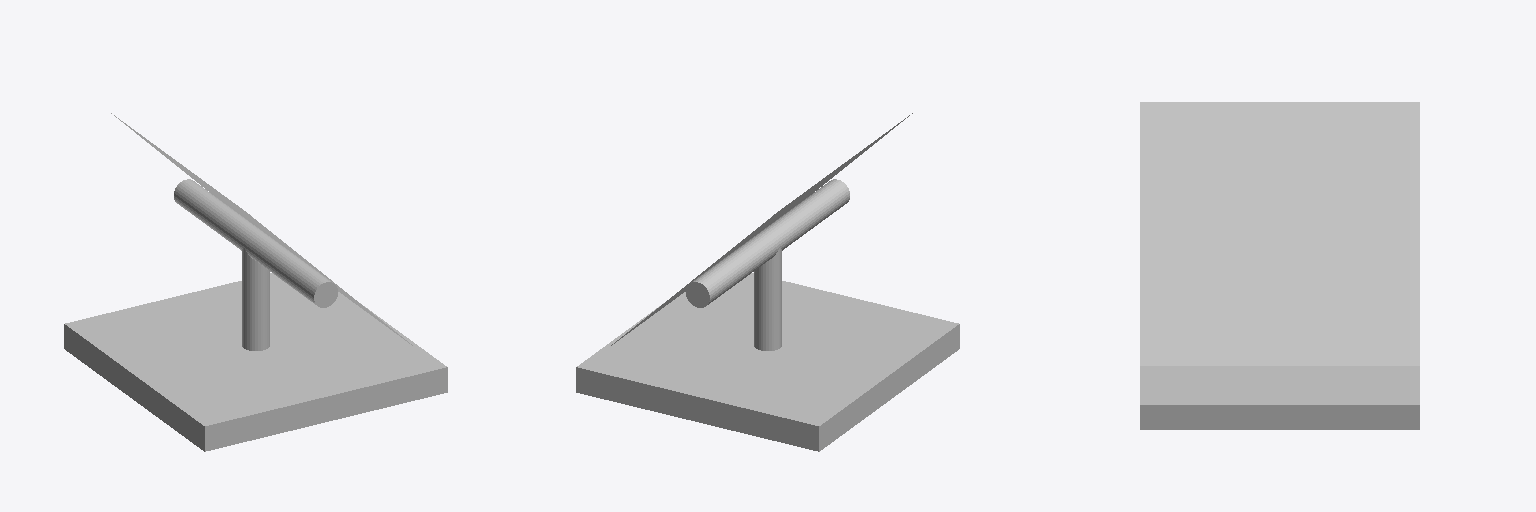
File: solar_45.obj
3 renders of one model, left to right at view 1: azimuth 30°, elevation 25°; view 2: azimuth 150°, elevation 25°; view 3: azimuth 270°, elevation 25°, orthographic.
Parts seen in each view (by area): view 1: Cube_Cube.001, Cylinder.001, Cylinder, Plane; view 2: Cube_Cube.001, Cylinder.001, Cylinder, Plane; view 3: Plane, Cube_Cube.001.
Part boxes in pixels (x1,y1,x2,y2): Cube_Cube.001: (64, 273, 447, 451); Cylinder.001: (174, 179, 337, 307); Cylinder: (242, 247, 269, 350); Plane: (111, 113, 412, 345); Cube_Cube.001: (576, 273, 959, 451); Cylinder.001: (686, 179, 849, 307); Cylinder: (754, 247, 781, 350); Plane: (611, 113, 912, 345); Plane: (1140, 102, 1419, 365); Cube_Cube.001: (1140, 366, 1419, 429).
Size of the model in its own units: 2 by 1.81 by 2.